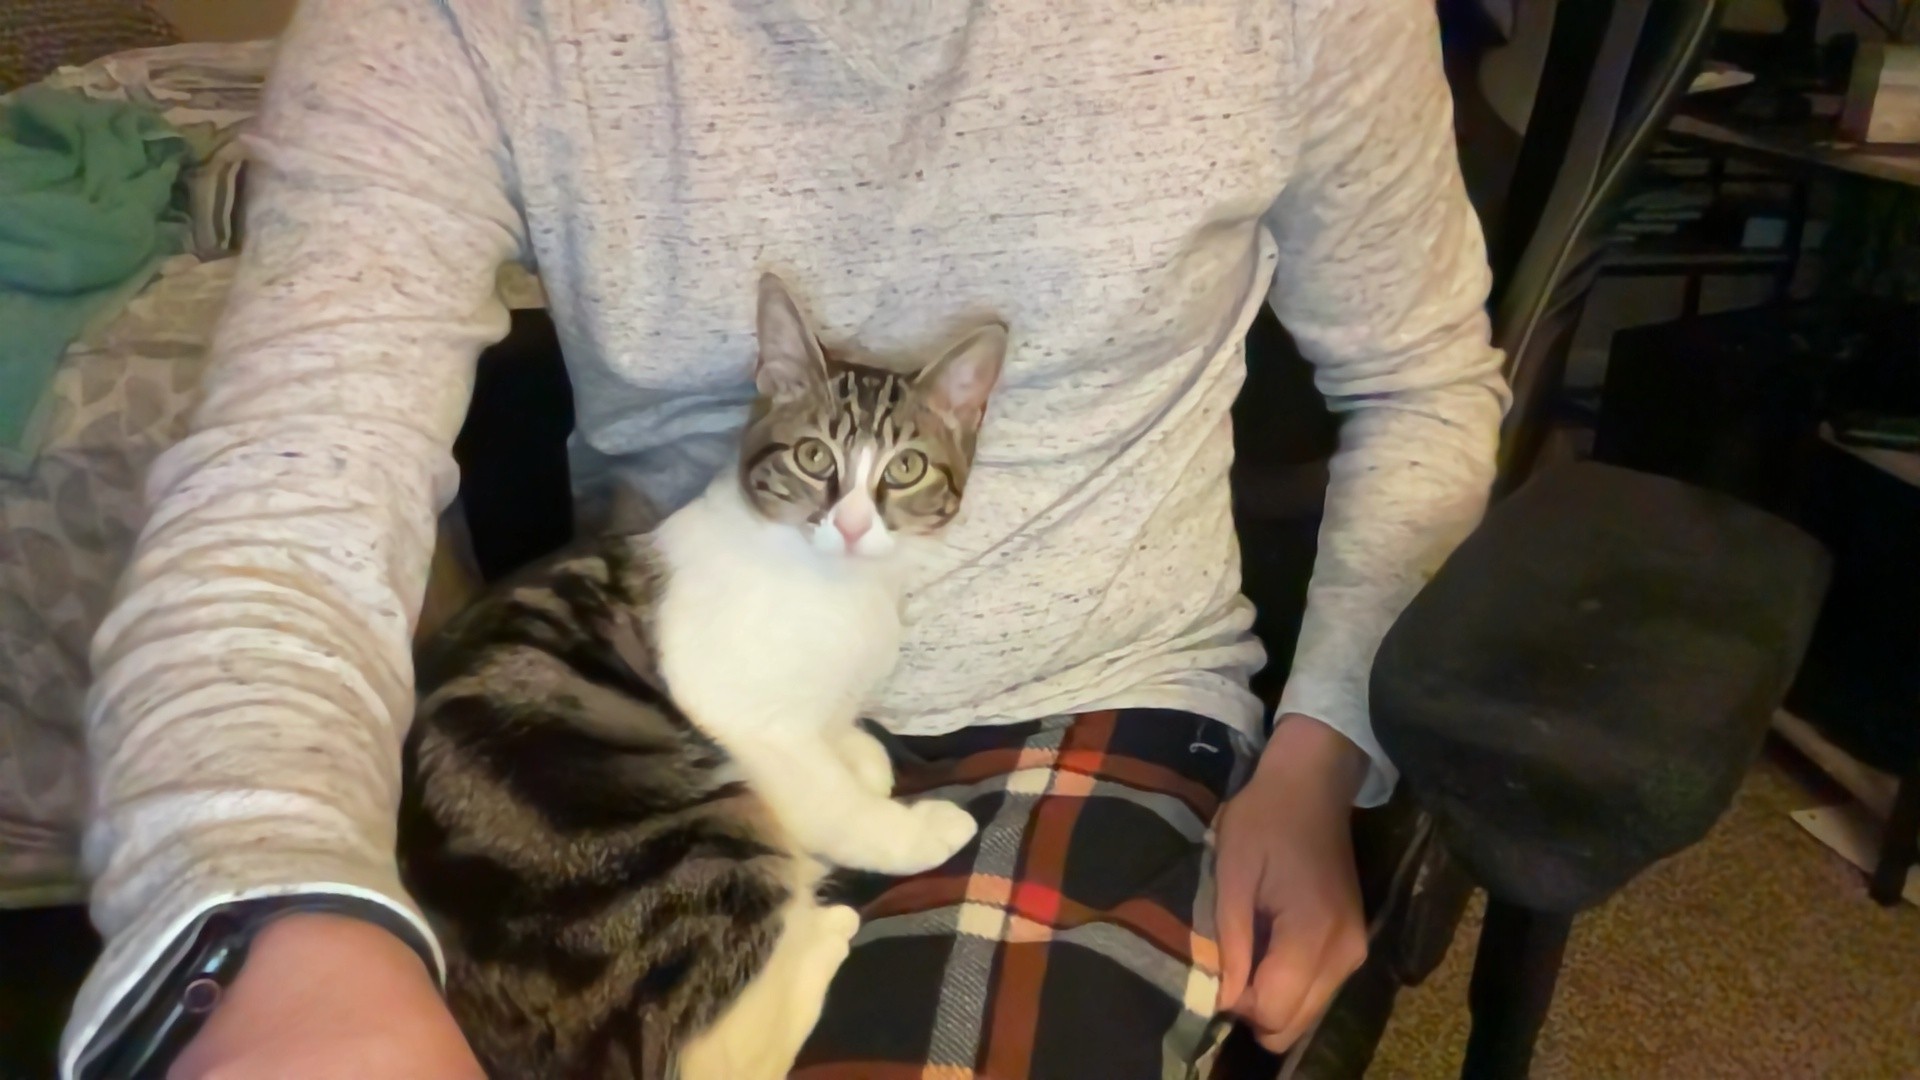cat: (390, 265, 1018, 1080)
